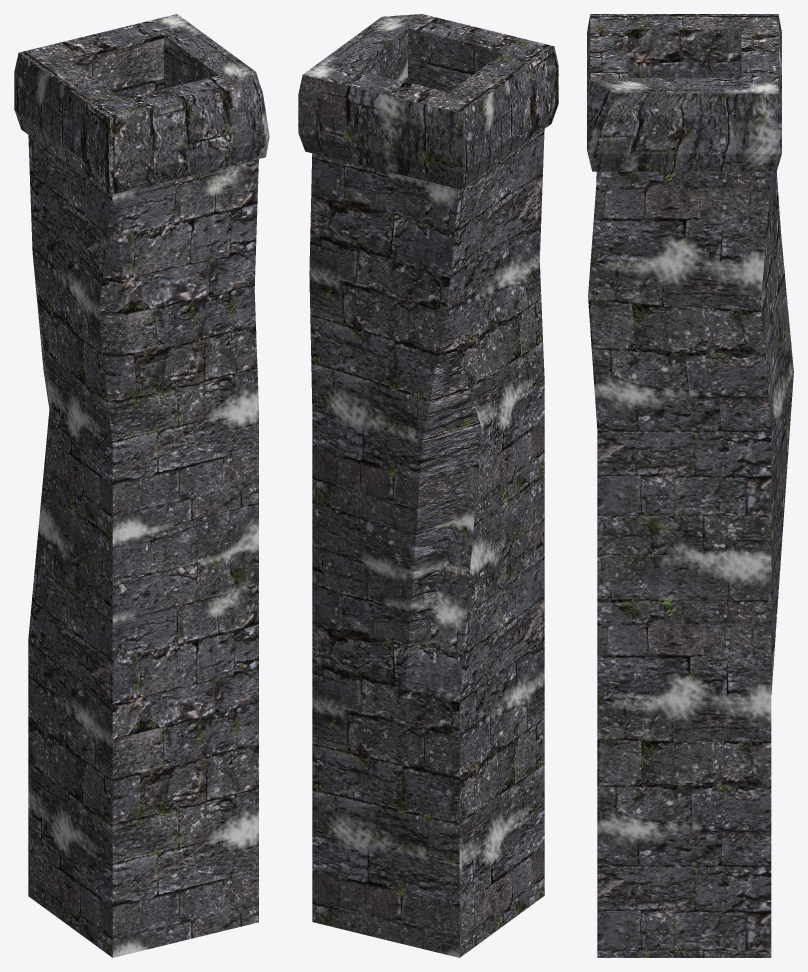
Rendered from trumpet.fbx.
3 renders of one model, left to right at view 1: azimuth 30°, elevation 25°; view 2: azimuth 150°, elevation 25°; view 3: azimuth 270°, elevation 25°, orthographic. The views are drawn at different scales.
Visible parts, largest first — view 1: trumpet; view 2: trumpet; view 3: trumpet.
Boxes of the visible parts, x1,y1,x2,y2 form: trumpet: (14,14,269,957); trumpet: (298,14,558,957); trumpet: (587,14,793,957).
Bounding box in the file's own units: 44.78 × 220 × 47.55.
Materials: 1 (1 with a texture image).
